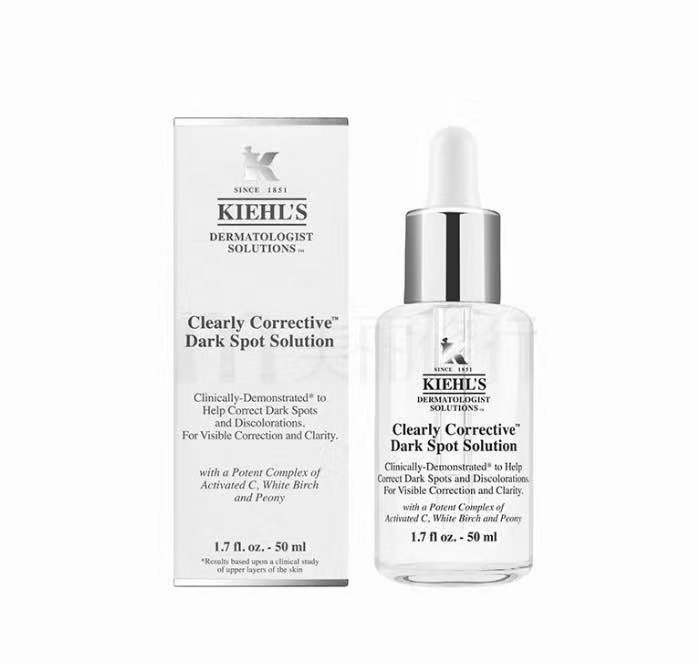cosmetic: (384, 128, 530, 570)
